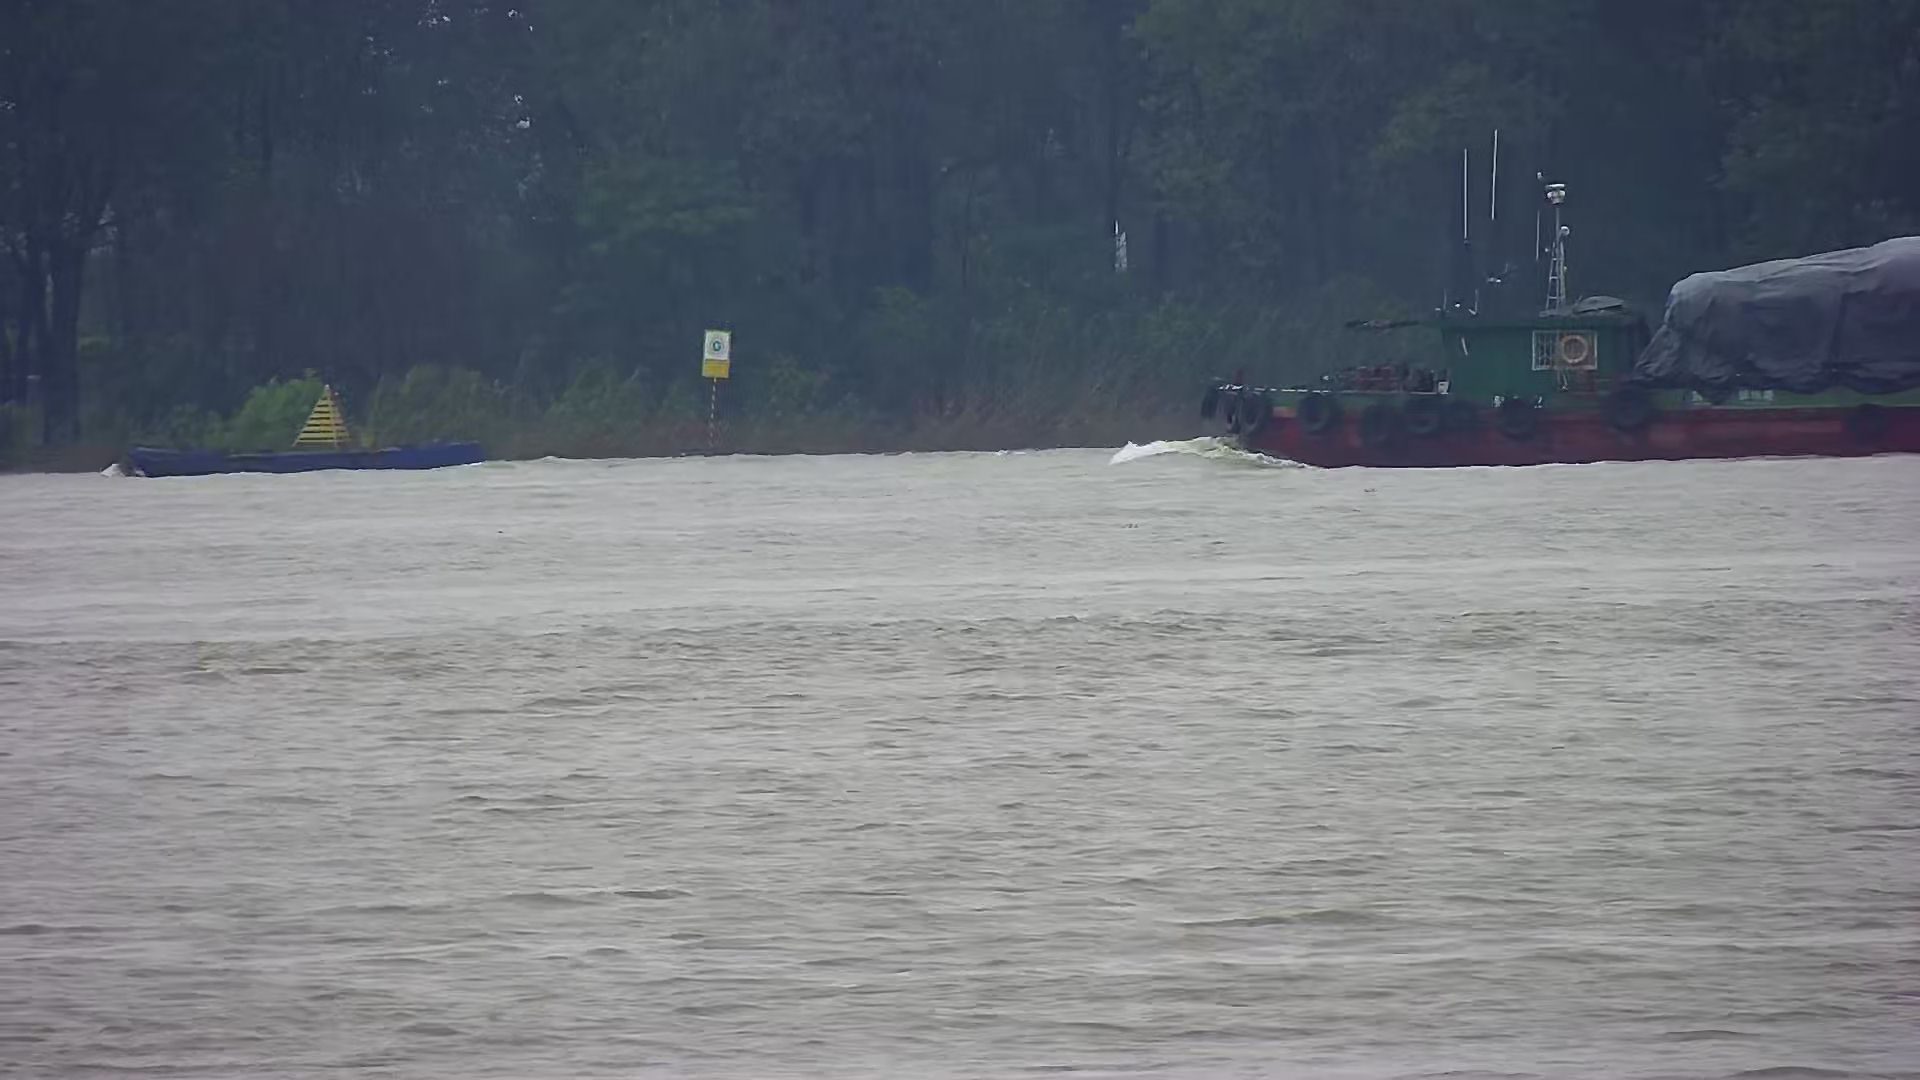boat: (131, 382, 483, 477)
mast: (699, 326, 731, 455)
ship: (1201, 179, 1920, 468)
